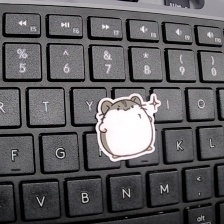mouse: (94, 92, 161, 166)
